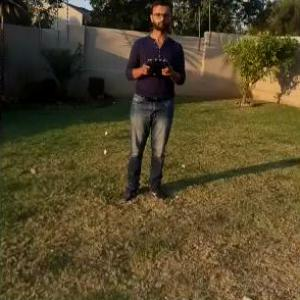follow: (116, 1, 188, 210)
